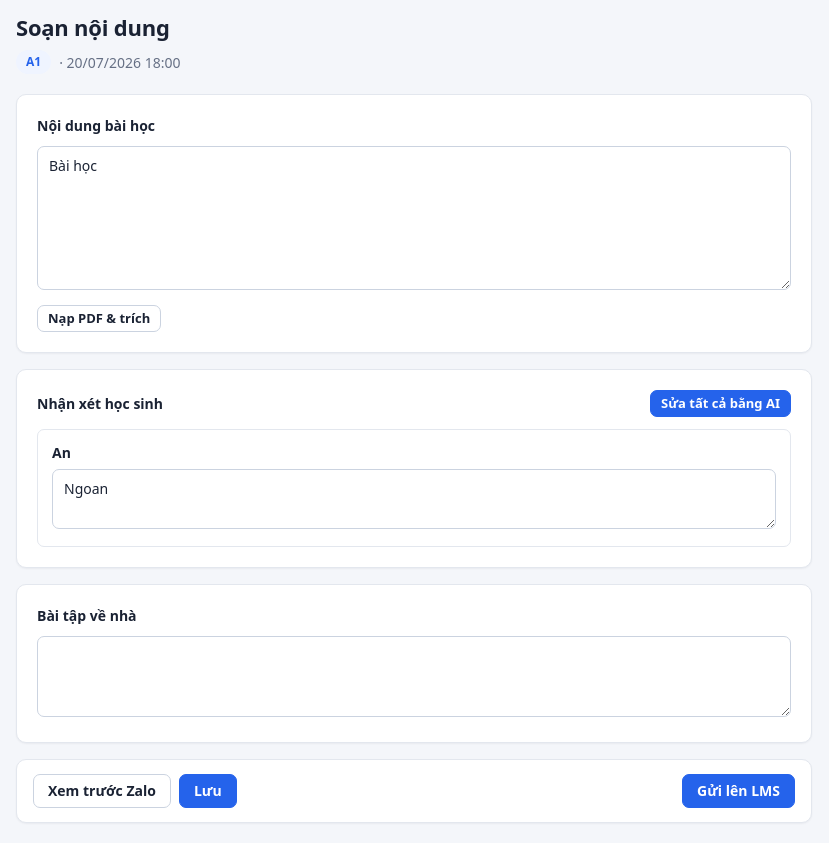
it: SessionComposer › sau save re-fetch metadata mới thay vì giữ full object stale trong renderer
Expected: the text box named "nội dung bài học" below "Nội dung bài học" holds "Bài học", [37,146,791,290]
What coordinates should you click on to do the following:
click the button "Lưu"
I would click on:
 (208, 791)
Its box is [179,774,237,808].
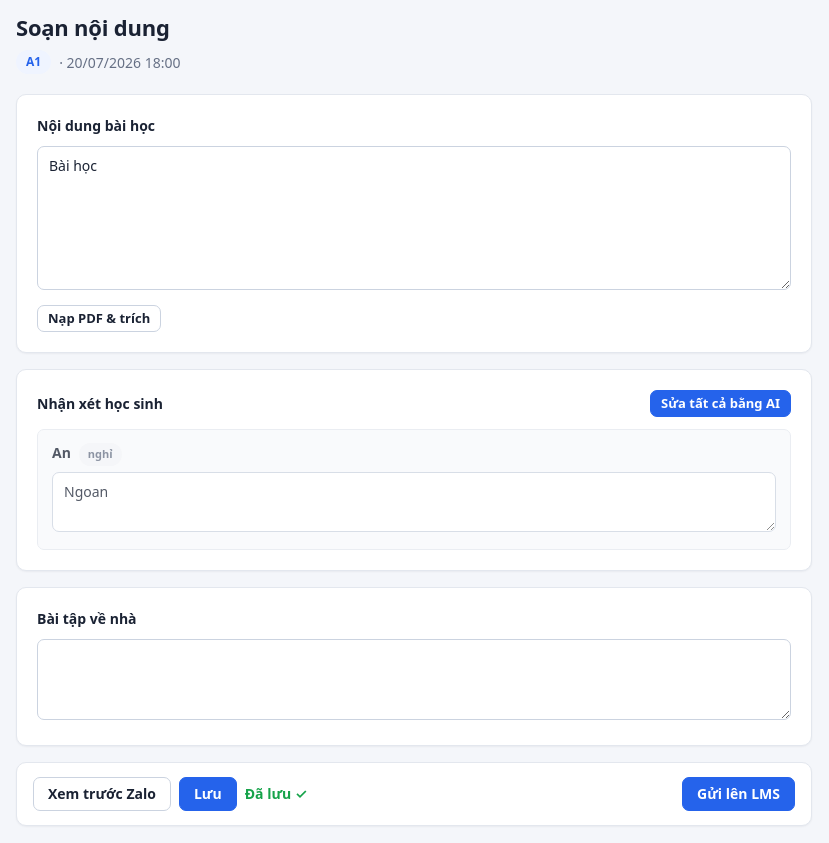
What coordinates should you click on to do the following:
click the button "Xem trước Zalo"
I would click on:
 (102, 794)
Its box is [33,776,171,810].
(page scrolled)
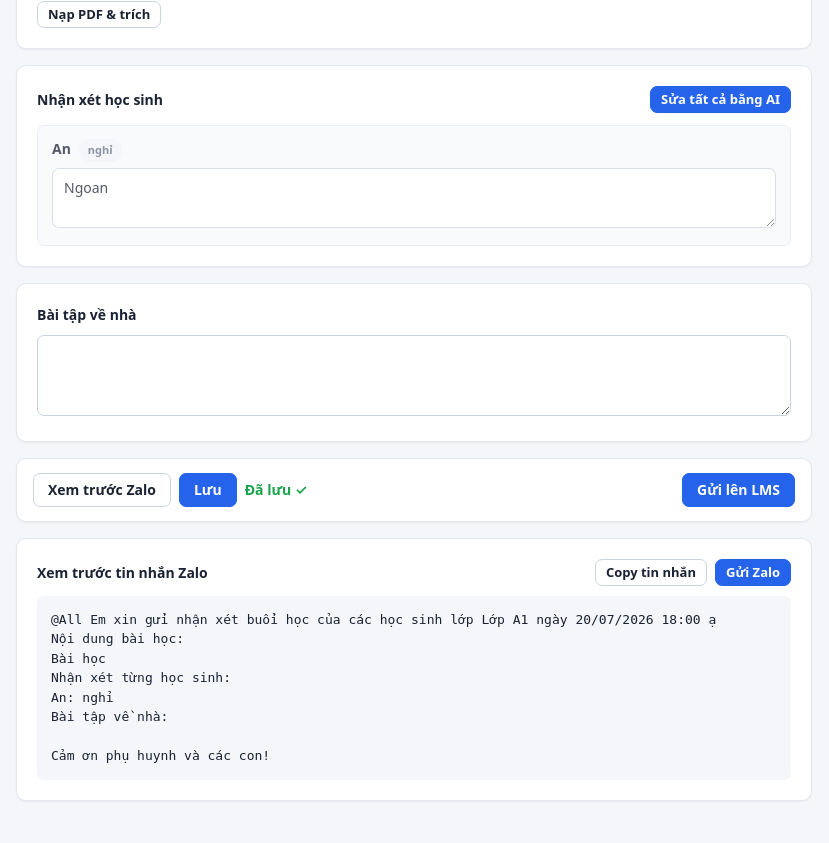
Expected: the text named "xem trước zalo" shows "An: nghỉ", [51,612,716,763]
